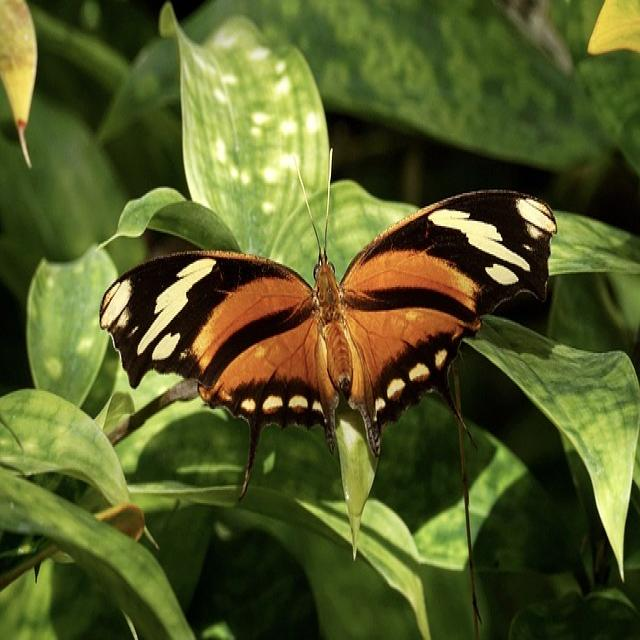butterfly: (96, 190, 559, 534)
